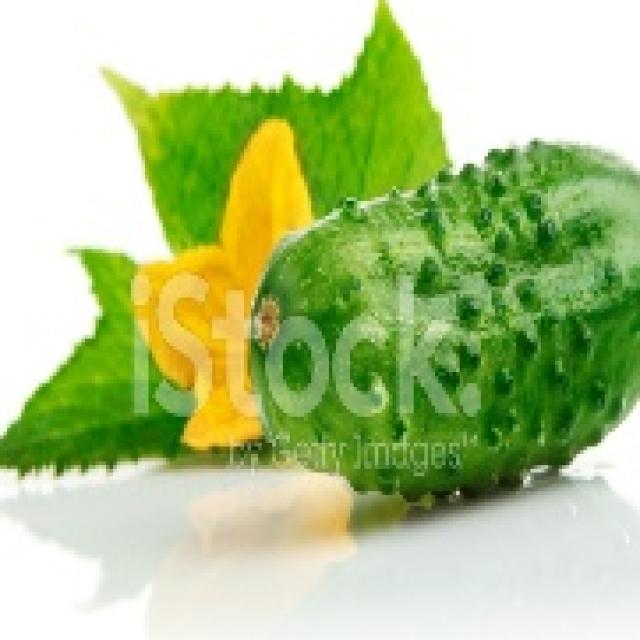cucumber: (240, 130, 640, 506)
